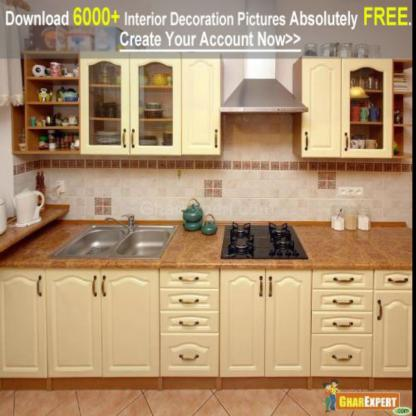Cabinet: (0, 264, 413, 380)
